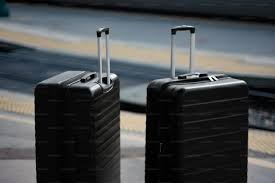suitcase: (144, 24, 252, 183), (31, 27, 124, 183)
